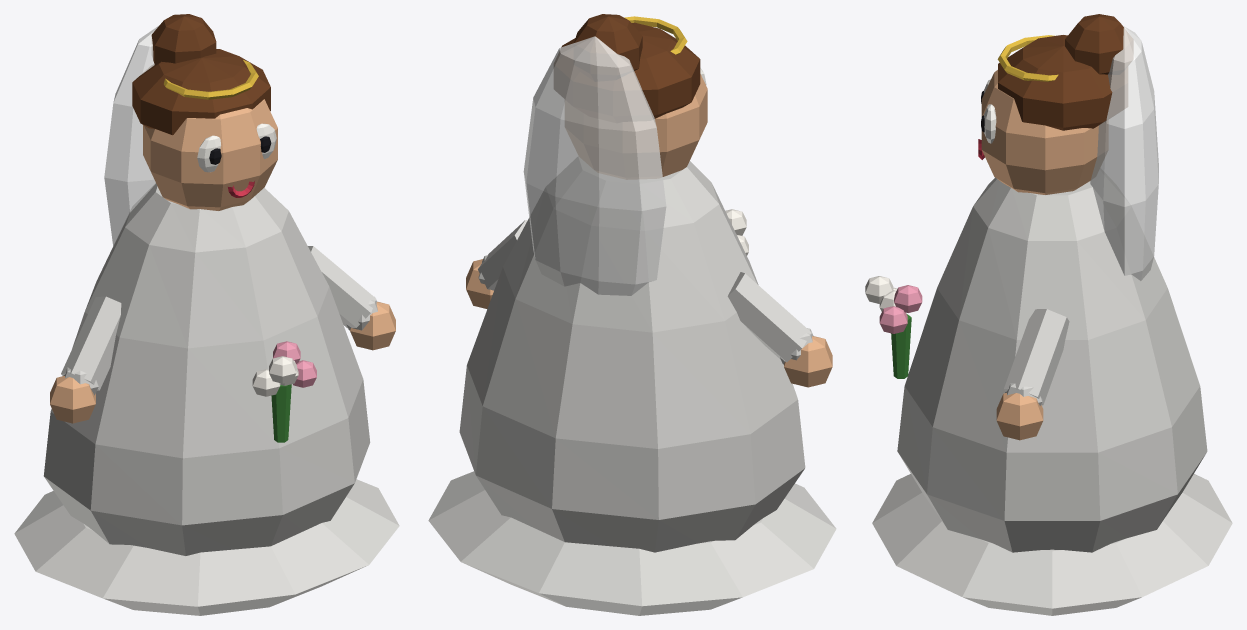
The model's file is npc_novia.glb.
The picture shows the model from 3 angles, left to right: view 1: azimuth 30°, elevation 25°; view 2: azimuth 150°, elevation 25°; view 3: azimuth 270°, elevation 25°; orthographic projection. The views are drawn at different scales.
Parts seen in each view (by area): view 1: body_bride_dress, head_hair_brown, head_skin_miel, arms_bride_dress, veil_bride_veil, arms_skin_miel, bouquet_bouquet_white, bouquet_bouquet_stem, veil_wedding_gold, face_white, bouquet_bouquet_pink; view 2: body_bride_dress, veil_bride_veil, head_hair_brown, head_skin_miel, arms_bride_dress, arms_skin_miel, veil_wedding_gold; view 3: body_bride_dress, veil_bride_veil, head_hair_brown, head_skin_miel, arms_bride_dress, arms_skin_miel, bouquet_bouquet_pink, bouquet_bouquet_stem, veil_wedding_gold, bouquet_bouquet_white.
Boxes of the visible parts, x1=… form: body_bride_dress: x1=14, y1=183, x2=399, y2=615; head_hair_brown: x1=132, y1=14, x2=270, y2=135; head_skin_miel: x1=143, y1=99, x2=277, y2=210; arms_bride_dress: x1=61, y1=246, x2=377, y2=395; veil_bride_veil: x1=104, y1=25, x2=159, y2=246; arms_skin_miel: x1=50, y1=301, x2=395, y2=423; bouquet_bouquet_white: x1=252, y1=356, x2=298, y2=396; bouquet_bouquet_stem: x1=271, y1=384, x2=291, y2=442; veil_wedding_gold: x1=164, y1=60, x2=258, y2=99; face_white: x1=197, y1=123, x2=276, y2=172; bouquet_bouquet_pink: x1=273, y1=341, x2=316, y2=387; body_bride_dress: x1=428, y1=156, x2=836, y2=615; veil_bride_veil: x1=523, y1=36, x2=666, y2=295; head_hair_brown: x1=554, y1=14, x2=700, y2=122; head_skin_miel: x1=565, y1=74, x2=707, y2=179; arms_bride_dress: x1=478, y1=220, x2=813, y2=364; arms_skin_miel: x1=466, y1=259, x2=832, y2=387; veil_wedding_gold: x1=624, y1=16, x2=687, y2=54; body_bride_dress: x1=872, y1=168, x2=1232, y2=615; veil_bride_veil: x1=1090, y1=26, x2=1158, y2=280; head_hair_brown: x1=998, y1=14, x2=1132, y2=130; head_skin_miel: x1=981, y1=70, x2=1107, y2=194; arms_bride_dress: x1=1004, y1=309, x2=1069, y2=405; arms_skin_miel: x1=996, y1=393, x2=1043, y2=440; bouquet_bouquet_pink: x1=879, y1=285, x2=922, y2=333; bouquet_bouquet_stem: x1=891, y1=313, x2=911, y2=378; veil_wedding_gold: x1=997, y1=35, x2=1058, y2=81; bouquet_bouquet_white: x1=865, y1=276, x2=897, y2=311.
Size of the model in its own units: 1.13 by 1.69 by 1.02.
